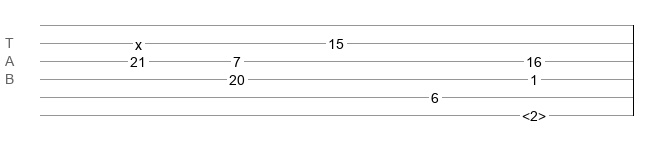1: (530, 72, 538, 82)
15: (328, 36, 344, 46)
16: (526, 54, 542, 64)
20: (229, 72, 245, 82)
21: (130, 54, 146, 64)
6: (431, 90, 439, 100)
7: (233, 54, 241, 64)
harmonic: (522, 108, 546, 118)
x: (135, 37, 142, 45)
